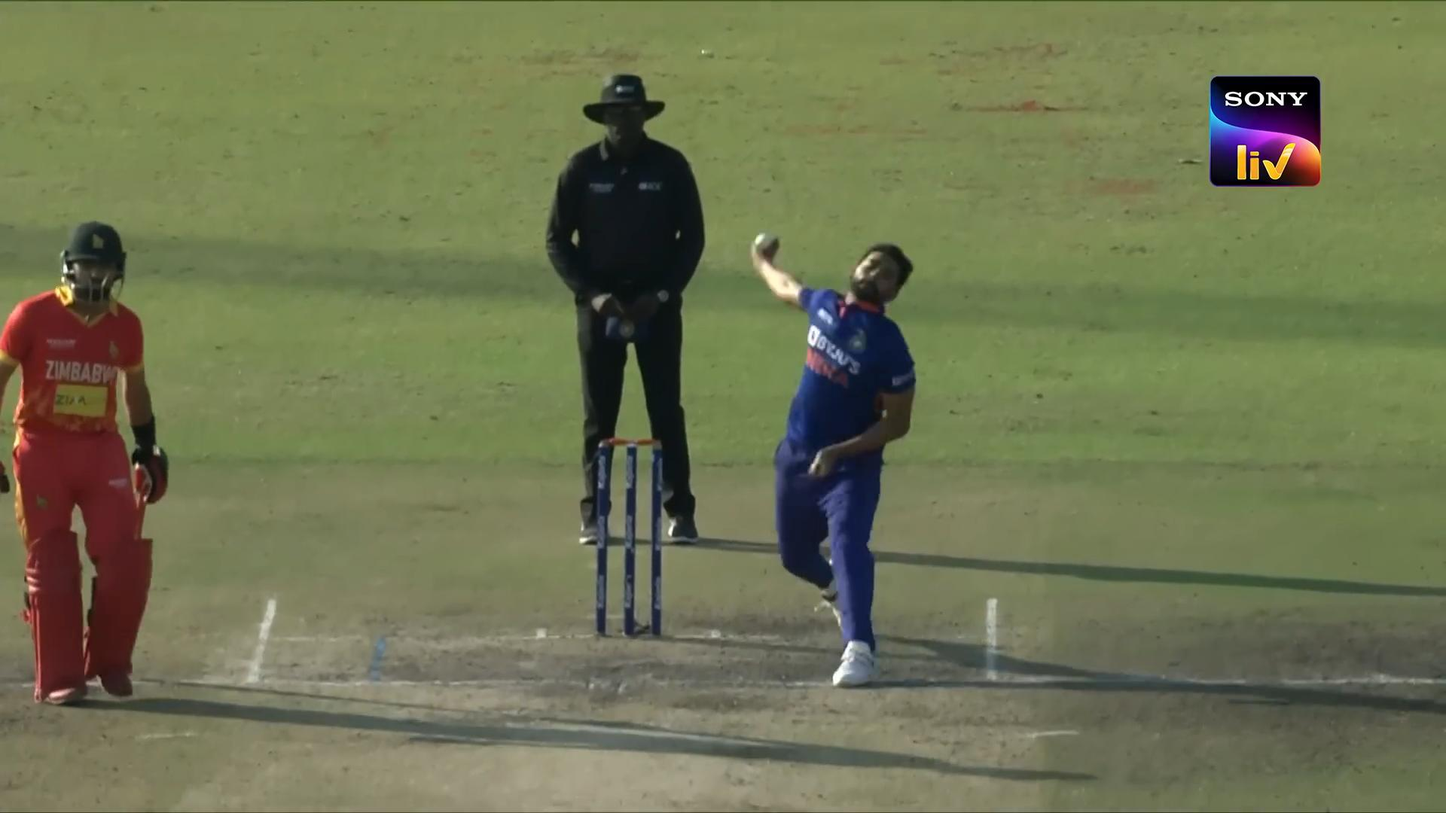batsman: (0, 221, 172, 705)
